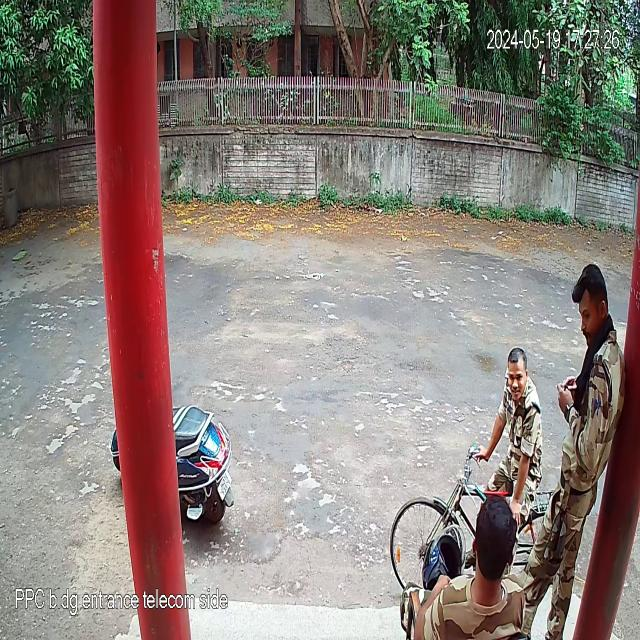NO-Hardhat: (468, 487, 520, 591), (567, 253, 618, 350), (500, 339, 533, 411)
